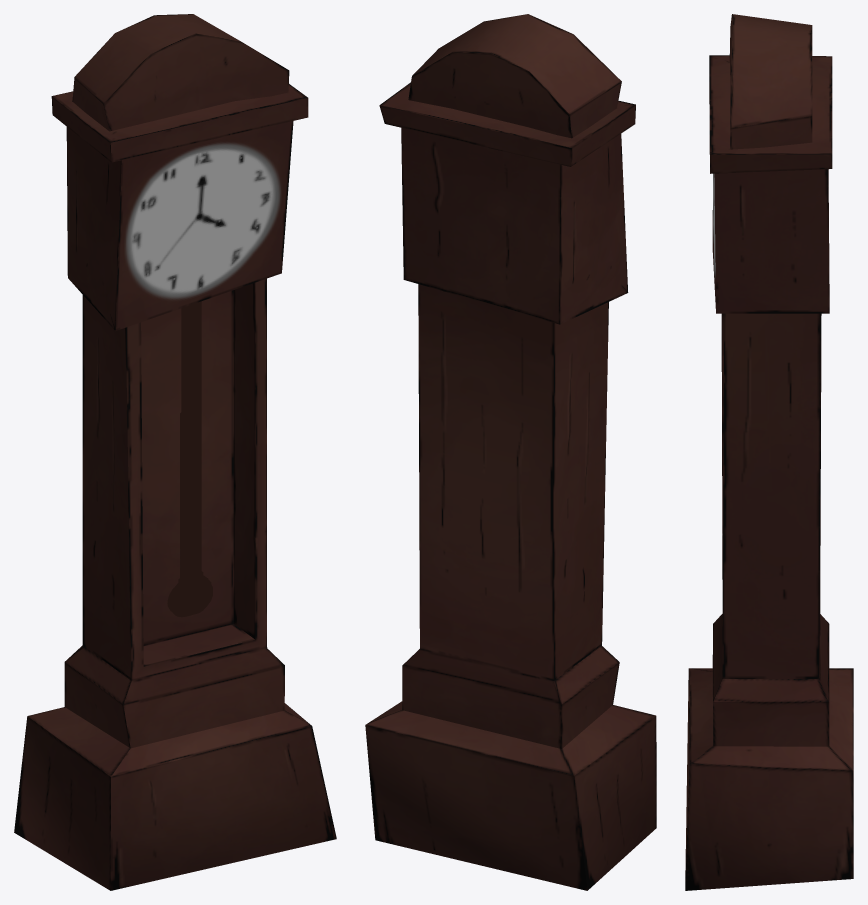
File: GrandFather_Clock.fbx
3 views of the same model, side by side, from view 1: azimuth 30°, elevation 25°; view 2: azimuth 150°, elevation 25°; view 3: azimuth 270°, elevation 25° (orthographic).
Visible parts, largest first — view 1: Grandfather_Clock; view 2: Grandfather_Clock; view 3: Grandfather_Clock.
Part boxes in pixels (left/top/right/bottom): Grandfather_Clock: left=14, top=14, right=336, bottom=890; Grandfather_Clock: left=365, top=14, right=656, bottom=890; Grandfather_Clock: left=685, top=14, right=853, bottom=890.
Size of the model in its own units: 67.37 by 221 by 41.82.
Materials: 1 (1 with a texture image).
